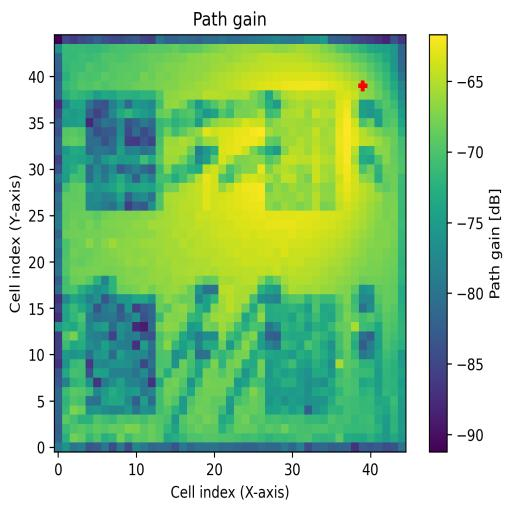Concrete: (266, 90, 336, 211)
Glass: (86, 90, 164, 212)
Metal: (267, 294, 345, 415)
Wood: (85, 295, 157, 416)
